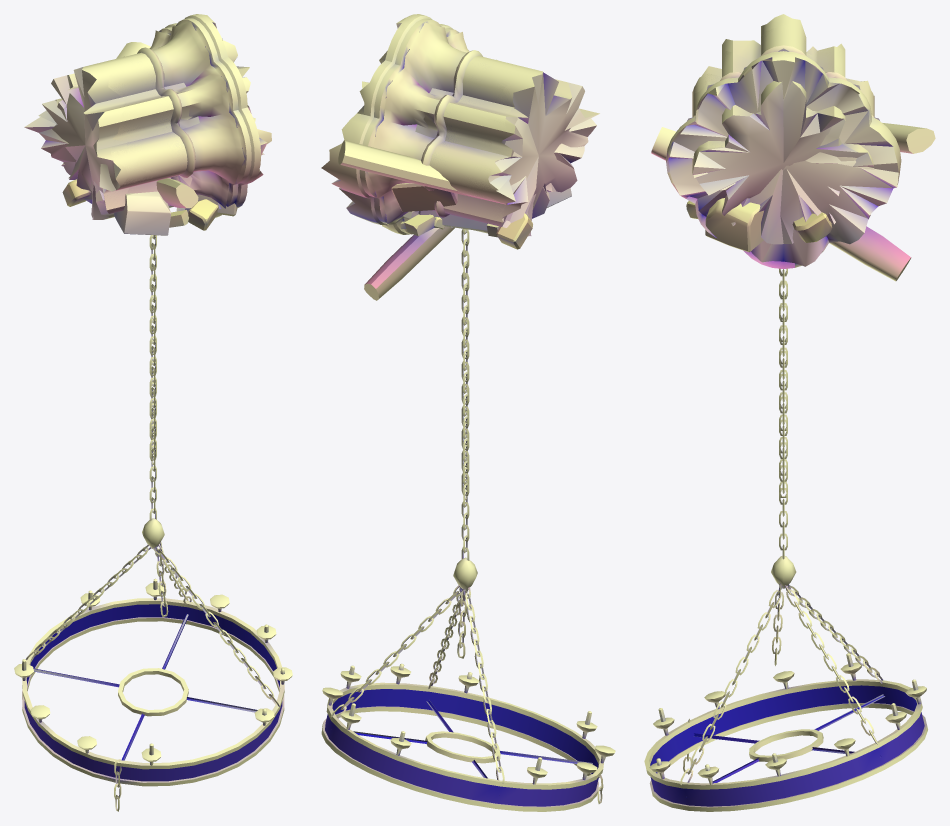
File: props.glb
3 views of the same model, side by side, from view 1: azimuth 30°, elevation 25°; view 2: azimuth 150°, elevation 25°; view 3: azimuth 270°, elevation 25° (orthographic). The views are drawn at different scales.
Visible parts, largest first — view 1: chandelier, drum_c, drum_b, drum_a, block_pile, chain, rib_piece; view 2: chandelier, drum_c, drum_b, drum_a, block_pile, rib_piece, chain, rubble_b; view 3: chandelier, drum_c, drum_b, drum_a, block_pile, rib_piece, chain.
Boxes of the visible parts, x1,y1,x2,y2 form: chandelier: (14,235,292,811); drum_c: (61,14,266,219); drum_b: (38,40,271,216); drum_a: (24,52,191,219); block_pile: (62,42,237,235); chain: (149,235,156,464); rib_piece: (156,178,198,208); chandelier: (321,229,615,811); drum_c: (321,14,596,235); drum_b: (362,61,599,226); drum_a: (366,56,549,236); block_pile: (338,140,571,249); rib_piece: (364,226,454,300); chain: (461,229,469,500); rubble_b: (400,213,530,236); chandelier: (644,268,927,811); drum_c: (666,23,901,268); drum_b: (692,14,874,224); drum_a: (692,25,874,244); block_pile: (686,123,935,252); rib_piece: (651,127,911,281); chain: (779,269,787,497).
Bounding box in the file's own units: 3.75 × 10.87 × 3.64.
